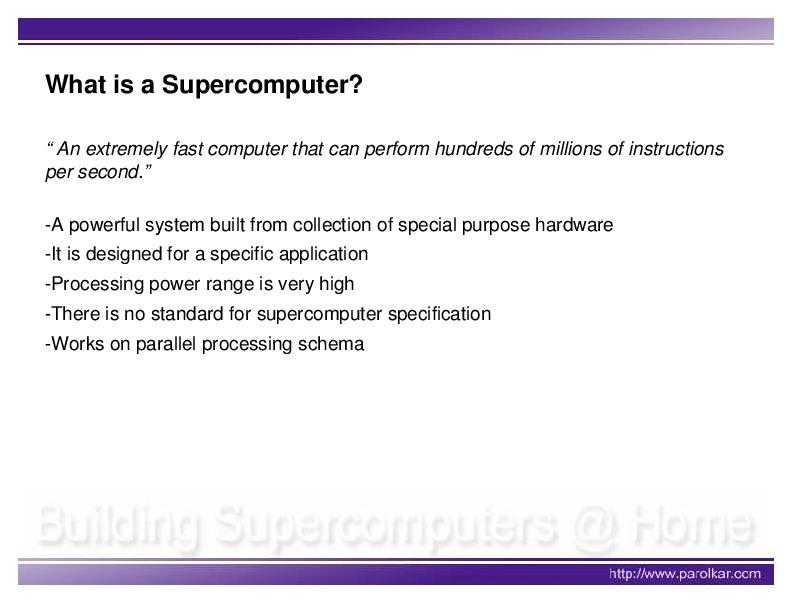paragraph: (38, 135, 748, 362)
title: (42, 57, 371, 112)
